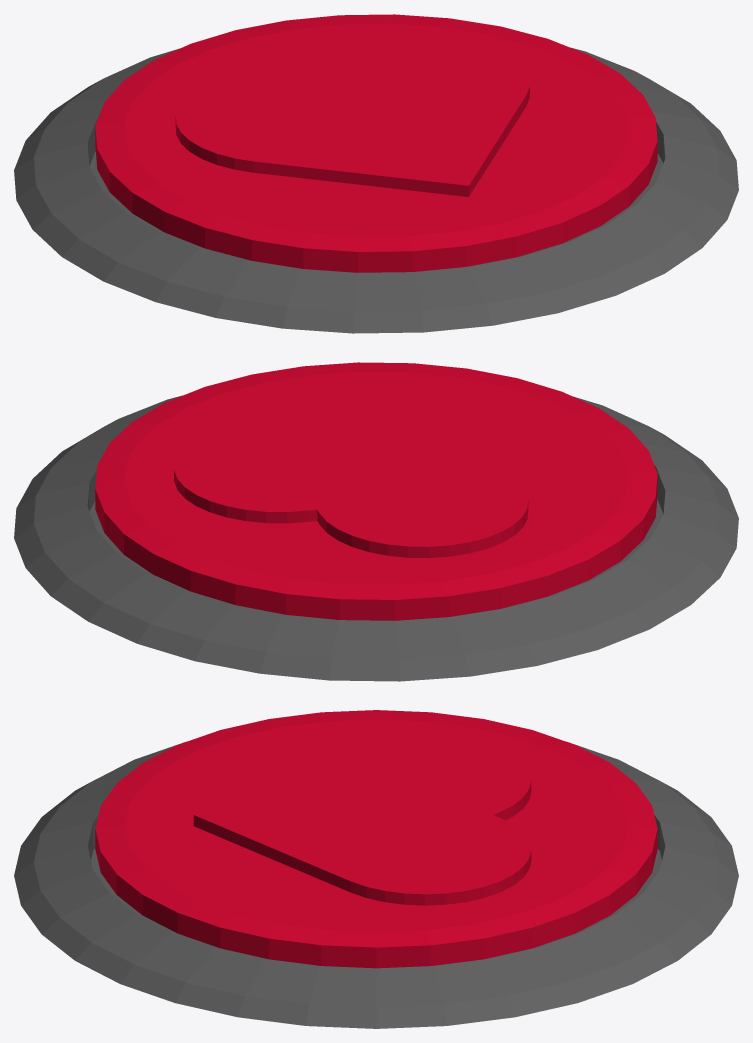
The model's file is props.fbx_b12.fbx.
3 renders of one model, top to bottom at view 1: azimuth 30°, elevation 25°; view 2: azimuth 150°, elevation 25°; view 3: azimuth 270°, elevation 25°, orthographic.
Visible parts, largest first — view 1: Circle.022, Circle.015; view 2: Circle.022, Circle.015; view 3: Circle.022, Circle.015.
Part boxes in pixels (x1,y1,x2,y2): Circle.022: (95,14,657,272); Circle.015: (14,47,738,333); Circle.022: (95,362,657,620); Circle.015: (14,395,738,681); Circle.022: (95,710,657,968); Circle.015: (14,742,738,1028).
Size of the model in its own units: 1.11 by 0.1032 by 1.11.
